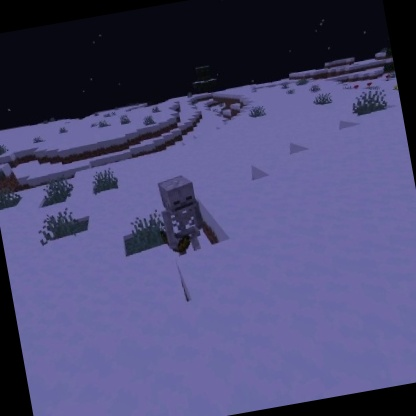skeleton: (147, 170, 210, 259)
